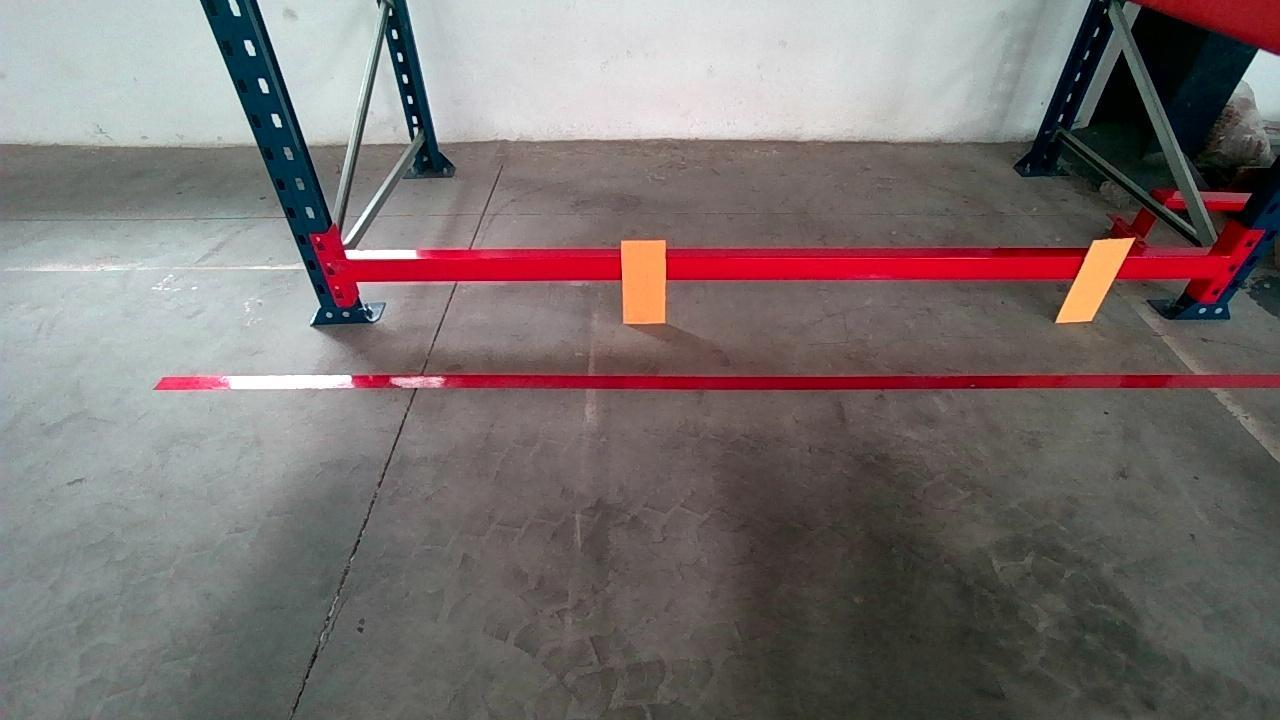h_rack: (346, 254, 1230, 279)
orange_strip: (1056, 239, 1135, 319), (622, 239, 667, 322)
red_line: (152, 374, 1280, 389)
